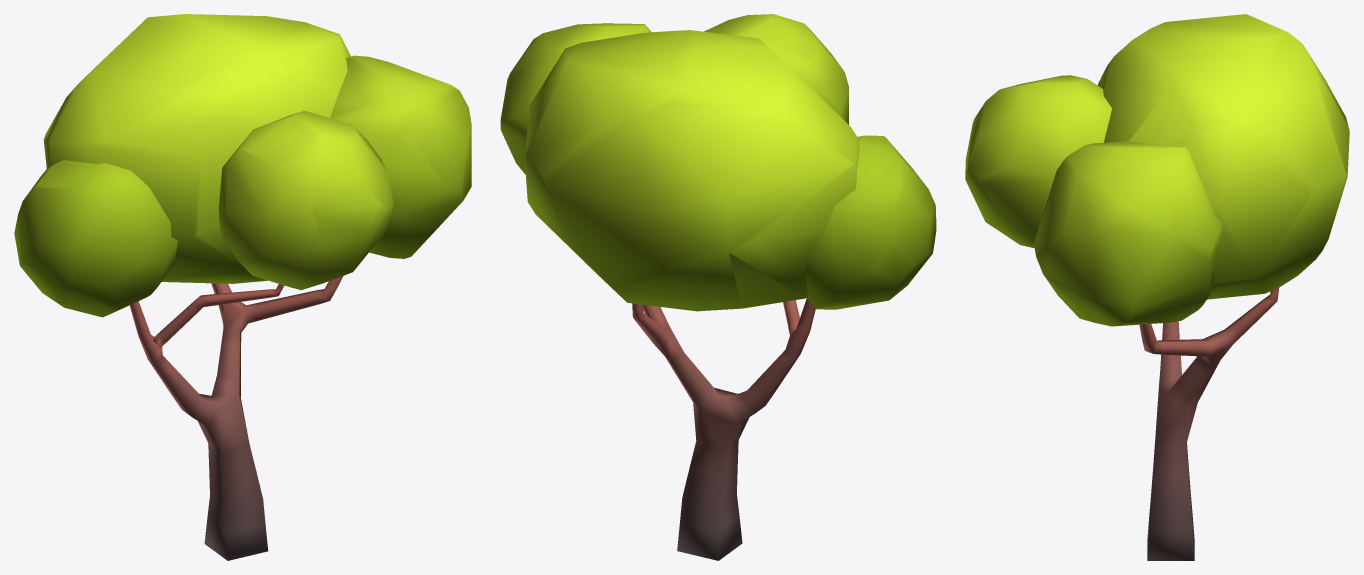
3 views of the same model, side by side, from view 1: azimuth 30°, elevation 25°; view 2: azimuth 150°, elevation 25°; view 3: azimuth 270°, elevation 25° (orthographic). The views are drawn at different scales.
Visible parts, largest first — view 1: Vert.041; view 2: Vert.041; view 3: Vert.041.
Boxes of the visible parts, x1,y1,x2,y2 form: Vert.041: (14,14,471,560); Vert.041: (500,14,936,560); Vert.041: (965,14,1349,560).
Bounding box in the file's own units: 4.45 × 5.11 × 3.49.
1 material, 1 textured.
